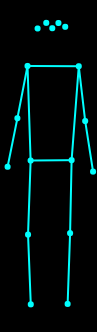mountain: (4, 17, 96, 311)
